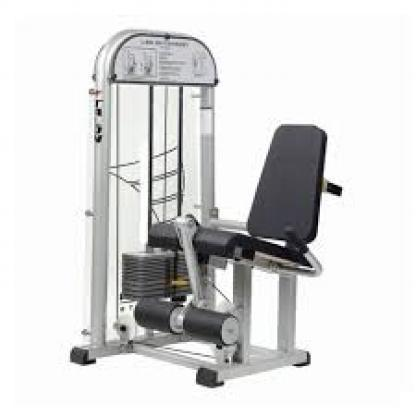leg extension: (64, 21, 348, 401)
